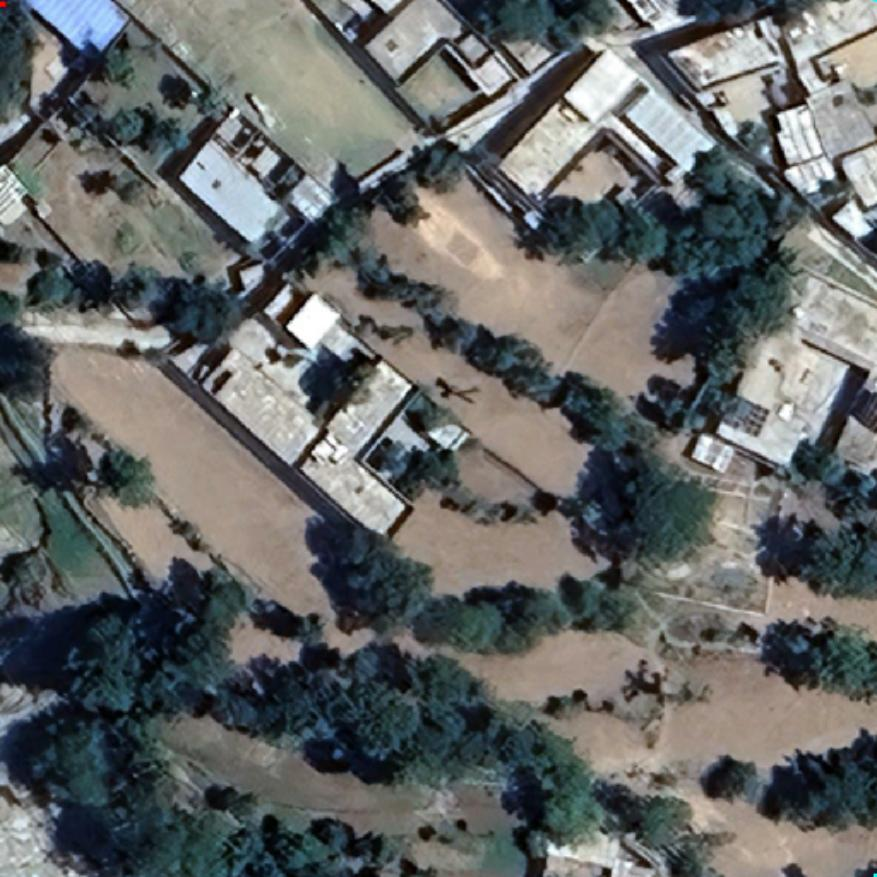Solarpanel: (728, 396, 770, 438), (856, 391, 877, 435)
